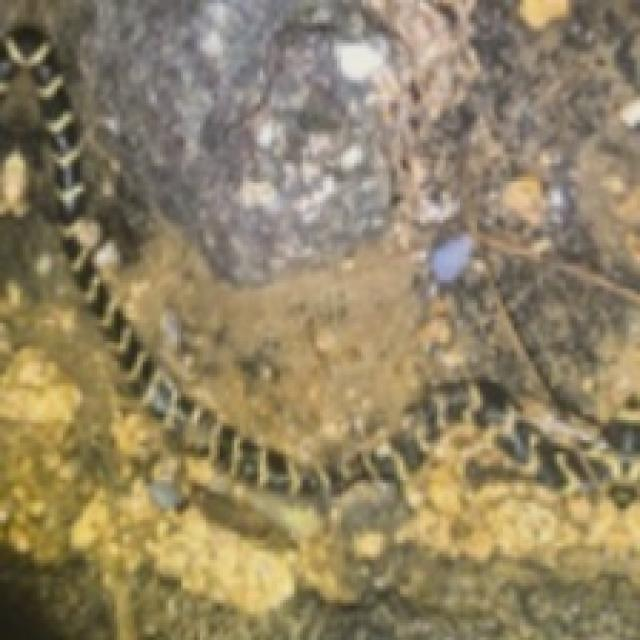king cobra: (0, 0, 637, 637), (0, 26, 329, 494)
